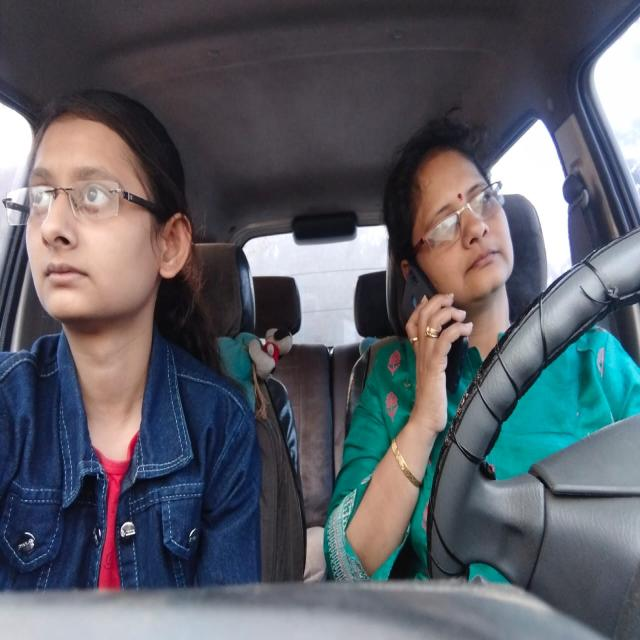mobile: (392, 252, 482, 385)
person: (17, 97, 192, 320), (380, 132, 527, 318)
